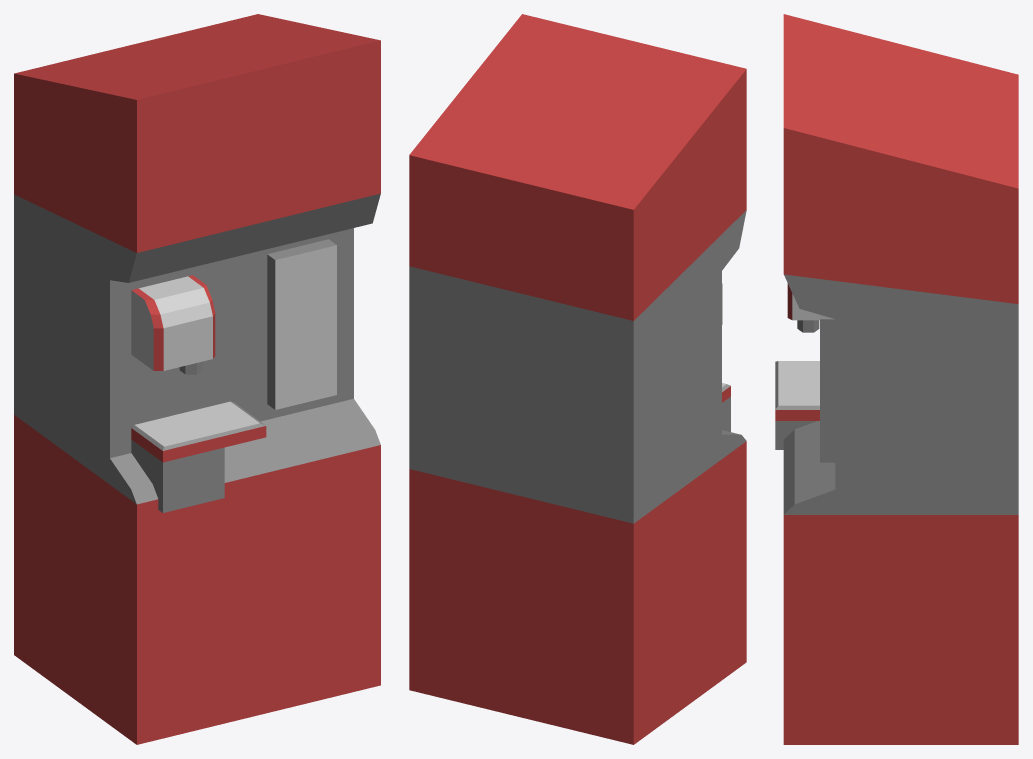
File: KaffeeAutomat.fbx
3 renders of one model, left to right at view 1: azimuth 30°, elevation 25°; view 2: azimuth 150°, elevation 25°; view 3: azimuth 270°, elevation 25°, orthographic. The views are drawn at different scales.
Visible parts, largest first — view 1: KaffeeMachine; view 2: KaffeeMachine; view 3: KaffeeMachine.
Part boxes in pixels (x1,y1,x2,y2): KaffeeMachine: (14,14,380,744); KaffeeMachine: (409,14,746,744); KaffeeMachine: (775,14,1018,744).
Size of the model in its own units: 792 by 2000 by 715.
